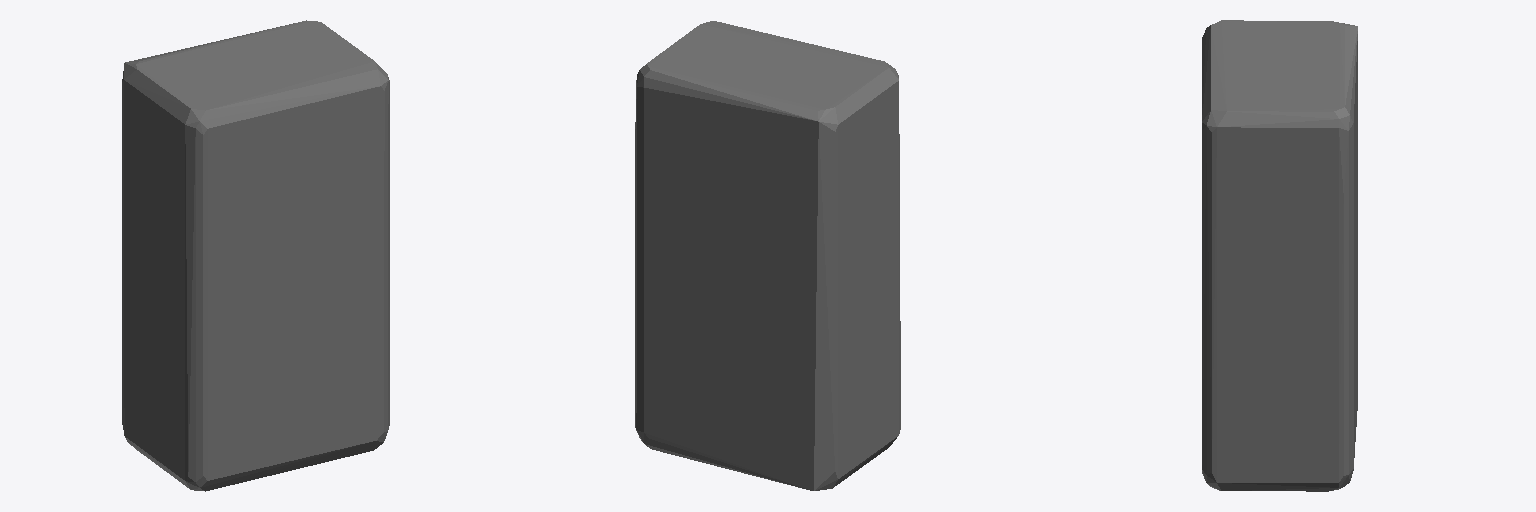
URDF robot description (tetra_pak_014):
<?xml version="1.0" ?>
<robot name="tetra_pak_014">
  <material name="color">
    <color rgba=".5 .5 .5 1"/>
  </material>

  <link name="base_link">
    <contact>
      <lateral_friction value="1.0"/>
      <rolling_friction value="0.001"/>
      <spinning_friction value="0.001"/>
      <inertia_scaling value="1.0"/>
    </contact>
    <inertial>
      <origin rpy="0 0 0" xyz="5.23692e-06 -1.16793e-05 -1.75896e-05"/>
       <mass value="0.1"/>
       <inertia ixx="1" ixy="0" ixz="0" iyy="1" iyz="0" izz="1"/>
    </inertial>

    <visual>
      <origin rpy="0 0 0" xyz="0 0 0"/>
      <geometry>
        <mesh filename="tetra_pak_014_vhacd_0_of_1.obj" scale="1 1 1"/>
      </geometry>
      <material name="color"/>
    </visual>

    <collision>
      <origin rpy="0 0 0" xyz="0 0 0"/>
      <geometry>
        <mesh filename="tetra_pak_014_vhacd_0_of_1.obj" scale="1 1 1"/>
      </geometry>
    </collision>

  </link>
</robot>

--- What the picture shows (computed from the rendered views, not written in the file) ---
Views: 3 orthographic renders of the robot side by side, from view 1: azimuth 30°, elevation 25°; view 2: azimuth 150°, elevation 25°; view 3: azimuth 270°, elevation 25°.
Model tetra_pak_014 with 1 links and 0 joints (none), rooted at base_link, posed all joints at 0.
Links seen in each view (by area): view 1: base_link; view 2: base_link; view 3: base_link.
Link boxes in pixels (bbox=[...]): base_link: bbox=[122, 20, 389, 491]; base_link: bbox=[635, 21, 900, 490]; base_link: bbox=[1202, 20, 1357, 491].
Size in the robot's own frame: 0.116 by 0.0777 by 0.2084 metres.
1 mesh visuals loaded from 1 distinct referenced files (1 OBJ).